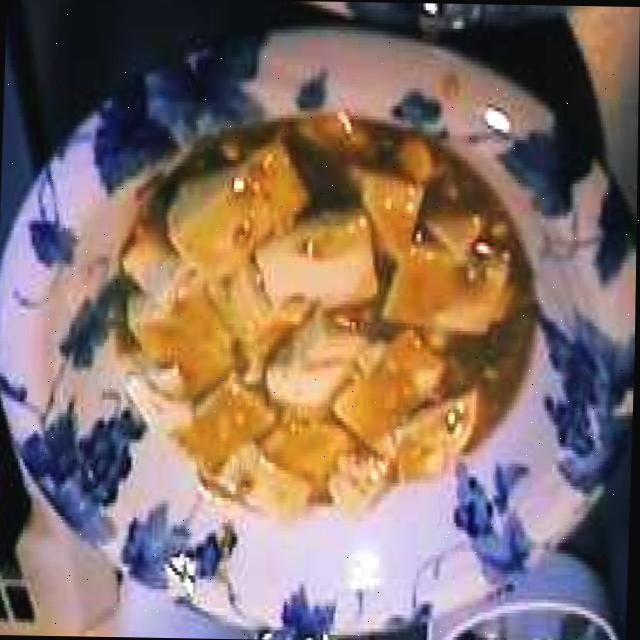豆腐料理: (0, 37, 640, 640)
